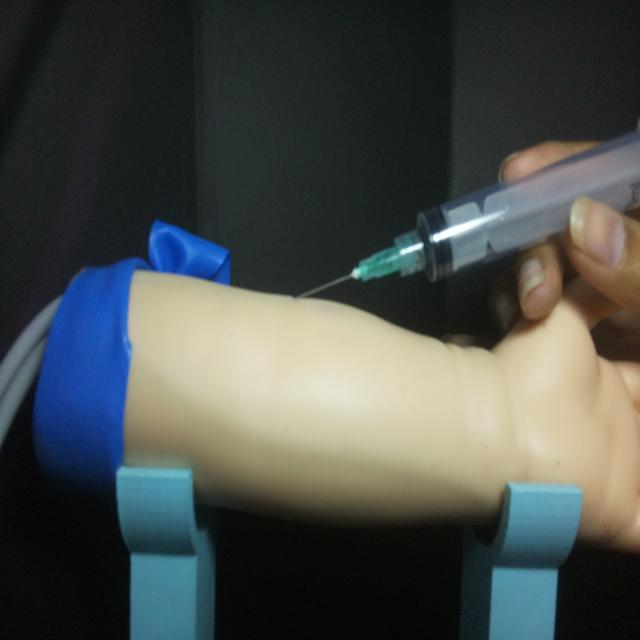15deg: (292, 125, 638, 303)
